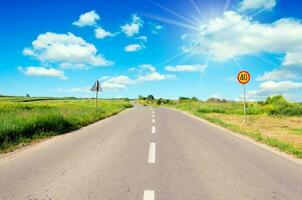straightRoad: (113, 103, 216, 200)
